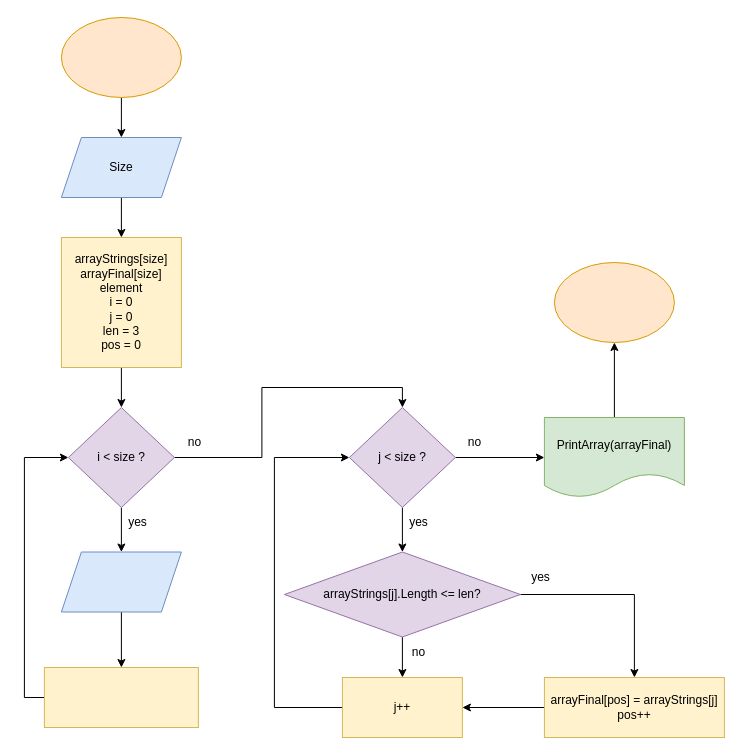
Some shapes in this 742 by 755 pixel diagram are drawn without their labels. The box of each missing label's shape, as (x1, y1, x2, y2) in pixels:
arrayStrings[i] = elements i++: (43, 666, 198, 728)
Elements: (60, 551, 181, 612)
End: (553, 262, 674, 342)
Start: (60, 16, 181, 98)
